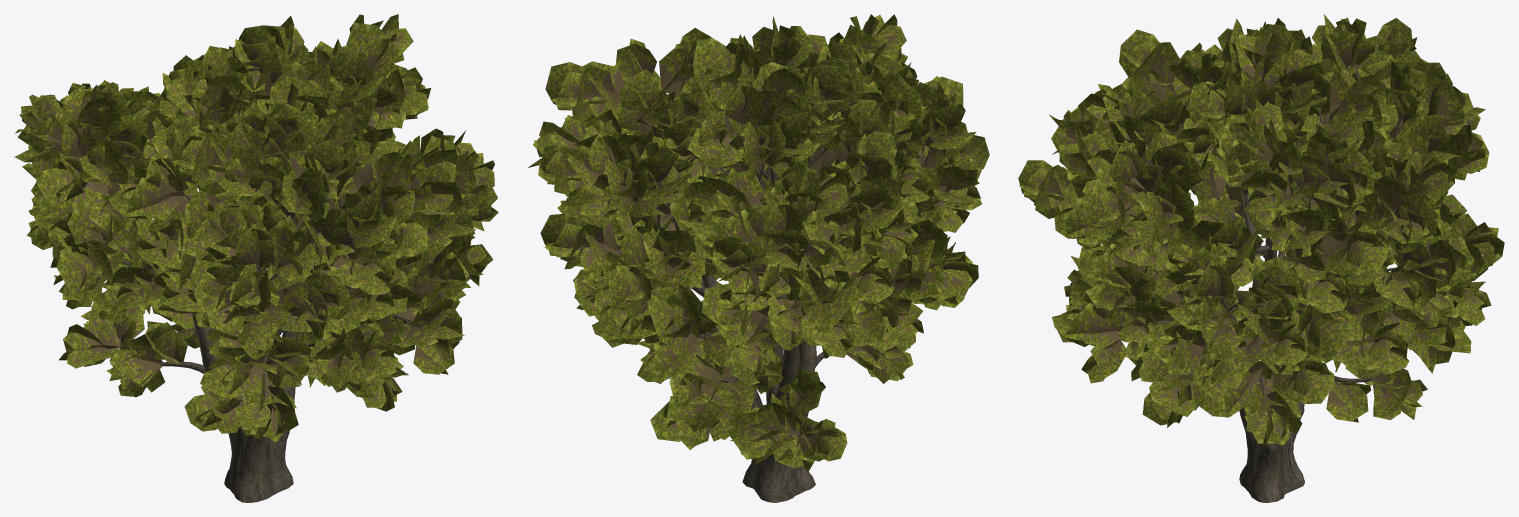
File: SM_Oak_Spring_01a.fbx
3 views of the same model, side by side, from view 1: azimuth 30°, elevation 25°; view 2: azimuth 150°, elevation 25°; view 3: azimuth 270°, elevation 25° (orthographic).
Parts seen in each view (by area): view 1: SM_Oak_Spring_01a_LOD0; view 2: SM_Oak_Spring_01a_LOD0; view 3: SM_Oak_Spring_01a_LOD0.
Part boxes in pixels (box(x1,y1,x2,y2)): SM_Oak_Spring_01a_LOD0: box(14, 14, 498, 502); SM_Oak_Spring_01a_LOD0: box(528, 14, 989, 502); SM_Oak_Spring_01a_LOD0: box(1018, 14, 1504, 502).
Bounding box in the file's own units: 2576 × 2513 × 2652.
